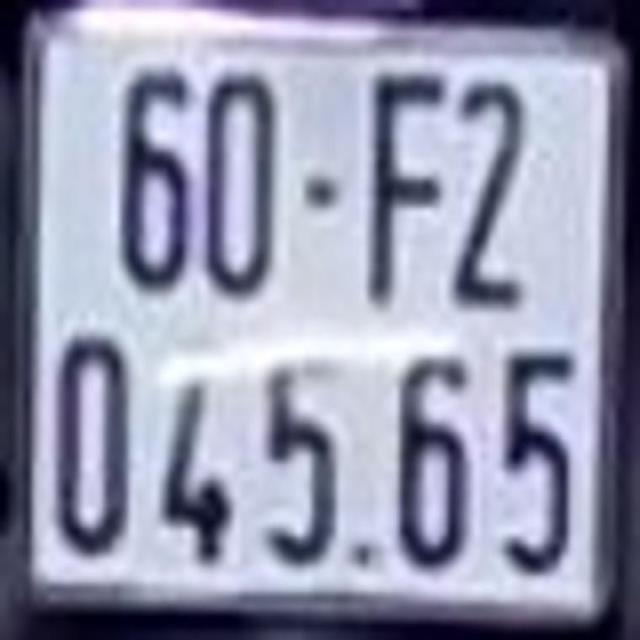0: (52, 332, 132, 556), (202, 66, 278, 298)
2: (454, 74, 528, 311)
4: (157, 333, 236, 568)
5: (259, 341, 346, 568), (499, 344, 577, 576)
6: (395, 344, 472, 569), (119, 65, 192, 293)
F: (364, 64, 446, 307)
